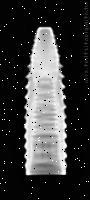Cowellmedi: (22, 24, 67, 175)
